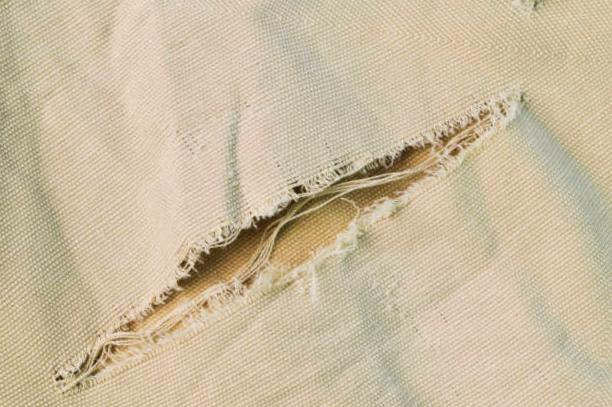hole: (50, 86, 534, 402)
